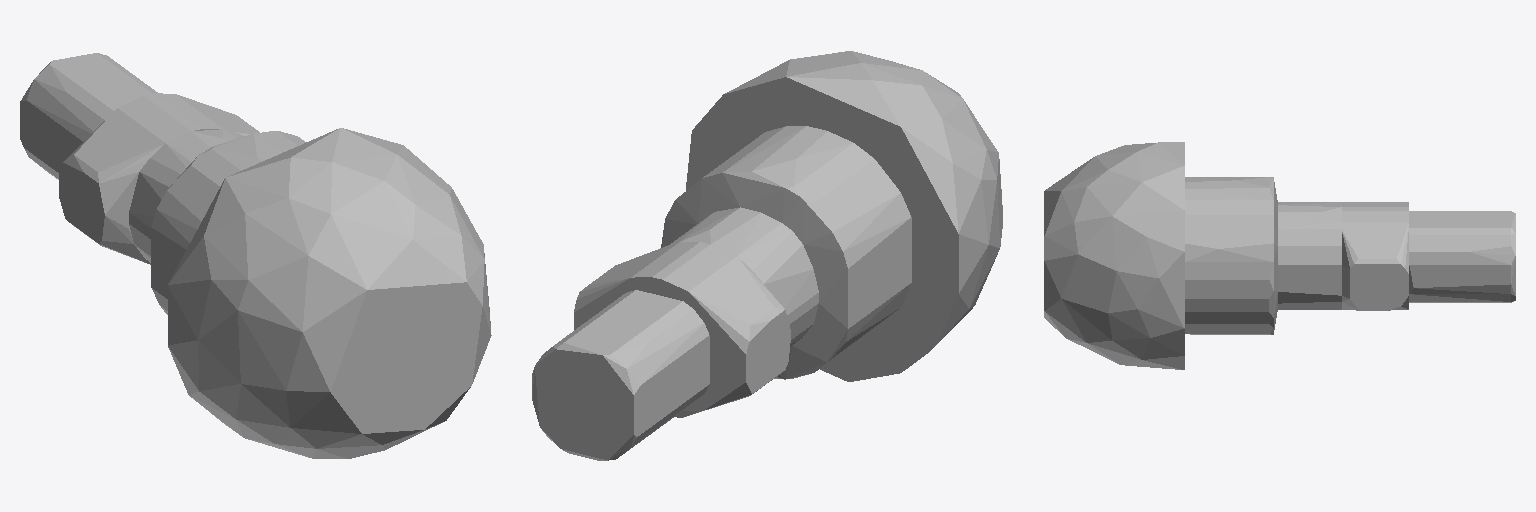
robot.urdf — root:
<robot name="root">
  <link name="link_thingiverse~nozzle_2731189_convex_piece_0">
    <inertial>
      <origin rpy="0 0 0" xyz="0 0 0"/>
      <mass value="1.12E-01"/>
      <inertia ixx="4.23E-05" ixy="5.57E-08" ixz="7.39E-08" iyy="2.56E-05" iyz="-3.78E-09" izz="4.24E-05"/>
    </inertial>
    <visual>
      <origin rpy="0 0 0" xyz="0 0 0"/>
      <geometry>
        <mesh filename="thingiverse~nozzle_2731189_convex_piece_0.obj" scale="1.0000E+00 1.0000E+00 1.0000E+00"/>
      </geometry>
      <material name="">
        <color rgba="7.50E-01 7.50E-01 7.50E-01 1"/>
      </material>
    </visual>
    <collision>
      <origin rpy="0 0 0" xyz="0 0 0"/>
      <geometry>
        <mesh filename="thingiverse~nozzle_2731189_convex_piece_0.obj" scale="1.0000E+00 1.0000E+00 1.0000E+00"/>
      </geometry>
    </collision>
  </link>
  <link name="link_thingiverse~nozzle_2731189_convex_piece_1">
    <inertial>
      <origin rpy="0 0 0" xyz="0 0 0"/>
      <mass value="4.45E-02"/>
      <inertia ixx="6.52E-06" ixy="7.29E-09" ixz="2.47E-10" iyy="5.69E-06" iyz="-1.27E-08" izz="6.48E-06"/>
    </inertial>
    <visual>
      <origin rpy="0 0 0" xyz="0 0 0"/>
      <geometry>
        <mesh filename="thingiverse~nozzle_2731189_convex_piece_1.obj" scale="1.0000E+00 1.0000E+00 1.0000E+00"/>
      </geometry>
      <material name="">
        <color rgba="7.50E-01 7.50E-01 7.50E-01 1"/>
      </material>
    </visual>
    <collision>
      <origin rpy="0 0 0" xyz="0 0 0"/>
      <geometry>
        <mesh filename="thingiverse~nozzle_2731189_convex_piece_1.obj" scale="1.0000E+00 1.0000E+00 1.0000E+00"/>
      </geometry>
    </collision>
  </link>
  <joint name="link_thingiverse~nozzle_2731189_convex_piece_1_joint" type="fixed">
    <origin rpy="0 0 0" xyz="0 0 0"/>
    <parent link="link_thingiverse~nozzle_2731189_convex_piece_0"/>
    <child link="link_thingiverse~nozzle_2731189_convex_piece_1"/>
  </joint>
  <link name="link_thingiverse~nozzle_2731189_convex_piece_2">
    <inertial>
      <origin rpy="0 0 0" xyz="0 0 0"/>
      <mass value="1.65E-02"/>
      <inertia ixx="5.06E-05" ixy="1.18E-07" ixz="-3.36E-09" iyy="6.91E-07" iyz="-3.20E-07" izz="5.06E-05"/>
    </inertial>
    <visual>
      <origin rpy="0 0 0" xyz="0 0 0"/>
      <geometry>
        <mesh filename="thingiverse~nozzle_2731189_convex_piece_2.obj" scale="1.0000E+00 1.0000E+00 1.0000E+00"/>
      </geometry>
      <material name="">
        <color rgba="7.50E-01 7.50E-01 7.50E-01 1"/>
      </material>
    </visual>
    <collision>
      <origin rpy="0 0 0" xyz="0 0 0"/>
      <geometry>
        <mesh filename="thingiverse~nozzle_2731189_convex_piece_2.obj" scale="1.0000E+00 1.0000E+00 1.0000E+00"/>
      </geometry>
    </collision>
  </link>
  <joint name="link_thingiverse~nozzle_2731189_convex_piece_2_joint" type="fixed">
    <origin rpy="0 0 0" xyz="0 0 0"/>
    <parent link="link_thingiverse~nozzle_2731189_convex_piece_1"/>
    <child link="link_thingiverse~nozzle_2731189_convex_piece_2"/>
  </joint>
  <link name="link_thingiverse~nozzle_2731189_convex_piece_3">
    <inertial>
      <origin rpy="0 0 0" xyz="0 0 0"/>
      <mass value="1.46E-02"/>
      <inertia ixx="8.67E-06" ixy="-6.85E-09" ixz="6.44E-10" iyy="8.86E-07" iyz="-4.40E-08" izz="8.67E-06"/>
    </inertial>
    <visual>
      <origin rpy="0 0 0" xyz="0 0 0"/>
      <geometry>
        <mesh filename="thingiverse~nozzle_2731189_convex_piece_3.obj" scale="1.0000E+00 1.0000E+00 1.0000E+00"/>
      </geometry>
      <material name="">
        <color rgba="7.50E-01 7.50E-01 7.50E-01 1"/>
      </material>
    </visual>
    <collision>
      <origin rpy="0 0 0" xyz="0 0 0"/>
      <geometry>
        <mesh filename="thingiverse~nozzle_2731189_convex_piece_3.obj" scale="1.0000E+00 1.0000E+00 1.0000E+00"/>
      </geometry>
    </collision>
  </link>
  <joint name="link_thingiverse~nozzle_2731189_convex_piece_3_joint" type="fixed">
    <origin rpy="0 0 0" xyz="0 0 0"/>
    <parent link="link_thingiverse~nozzle_2731189_convex_piece_2"/>
    <child link="link_thingiverse~nozzle_2731189_convex_piece_3"/>
  </joint>
  <link name="link_thingiverse~nozzle_2731189_convex_piece_4">
    <inertial>
      <origin rpy="0 0 0" xyz="0 0 0"/>
      <mass value="1.97E-02"/>
      <inertia ixx="2.79E-05" ixy="-6.99E-08" ixz="-3.51E-09" iyy="1.62E-06" iyz="-9.79E-08" izz="2.84E-05"/>
    </inertial>
    <visual>
      <origin rpy="0 0 0" xyz="0 0 0"/>
      <geometry>
        <mesh filename="thingiverse~nozzle_2731189_convex_piece_4.obj" scale="1.0000E+00 1.0000E+00 1.0000E+00"/>
      </geometry>
      <material name="">
        <color rgba="7.50E-01 7.50E-01 7.50E-01 1"/>
      </material>
    </visual>
    <collision>
      <origin rpy="0 0 0" xyz="0 0 0"/>
      <geometry>
        <mesh filename="thingiverse~nozzle_2731189_convex_piece_4.obj" scale="1.0000E+00 1.0000E+00 1.0000E+00"/>
      </geometry>
    </collision>
  </link>
  <joint name="link_thingiverse~nozzle_2731189_convex_piece_4_joint" type="fixed">
    <origin rpy="0 0 0" xyz="0 0 0"/>
    <parent link="link_thingiverse~nozzle_2731189_convex_piece_3"/>
    <child link="link_thingiverse~nozzle_2731189_convex_piece_4"/>
  </joint>
</robot>

--- Render facts (derived) ---
3 views of the same robot in one strip: view 1: azimuth 30°, elevation 25°; view 2: azimuth 150°, elevation 25°; view 3: azimuth 270°, elevation 25° (orthographic).
Model root with 5 links and 4 joints (4 fixed), rooted at link_thingiverse~nozzle_2731189_convex_piece_0, posed all joints at 0.
Visible links, largest first — view 1: link_thingiverse~nozzle_2731189_convex_piece_0, link_thingiverse~nozzle_2731189_convex_piece_4, link_thingiverse~nozzle_2731189_convex_piece_2, link_thingiverse~nozzle_2731189_convex_piece_1, link_thingiverse~nozzle_2731189_convex_piece_3; view 2: link_thingiverse~nozzle_2731189_convex_piece_0, link_thingiverse~nozzle_2731189_convex_piece_1, link_thingiverse~nozzle_2731189_convex_piece_2, link_thingiverse~nozzle_2731189_convex_piece_4, link_thingiverse~nozzle_2731189_convex_piece_3; view 3: link_thingiverse~nozzle_2731189_convex_piece_0, link_thingiverse~nozzle_2731189_convex_piece_1, link_thingiverse~nozzle_2731189_convex_piece_2, link_thingiverse~nozzle_2731189_convex_piece_4, link_thingiverse~nozzle_2731189_convex_piece_3.
Boxes of the visible links, <box> form: link_thingiverse~nozzle_2731189_convex_piece_0: <box>168,128,491,458</box>; link_thingiverse~nozzle_2731189_convex_piece_4: <box>59,93,259,264</box>; link_thingiverse~nozzle_2731189_convex_piece_2: <box>20,53,157,179</box>; link_thingiverse~nozzle_2731189_convex_piece_1: <box>151,131,305,314</box>; link_thingiverse~nozzle_2731189_convex_piece_3: <box>129,129,240,262</box>; link_thingiverse~nozzle_2731189_convex_piece_0: <box>686,51,1002,381</box>; link_thingiverse~nozzle_2731189_convex_piece_1: <box>661,126,911,379</box>; link_thingiverse~nozzle_2731189_convex_piece_2: <box>532,290,709,460</box>; link_thingiverse~nozzle_2731189_convex_piece_4: <box>574,242,790,417</box>; link_thingiverse~nozzle_2731189_convex_piece_3: <box>670,207,818,347</box>; link_thingiverse~nozzle_2731189_convex_piece_0: <box>1044,142,1184,369</box>; link_thingiverse~nozzle_2731189_convex_piece_1: <box>1185,177,1277,334</box>; link_thingiverse~nozzle_2731189_convex_piece_2: <box>1409,211,1515,302</box>; link_thingiverse~nozzle_2731189_convex_piece_4: <box>1342,202,1408,310</box>; link_thingiverse~nozzle_2731189_convex_piece_3: <box>1278,202,1341,309</box>.
Size in the robot's own frame: 0.0461 by 0.0966 by 0.0461 metres.
5 mesh visuals loaded from 5 distinct referenced files (5 OBJ).
